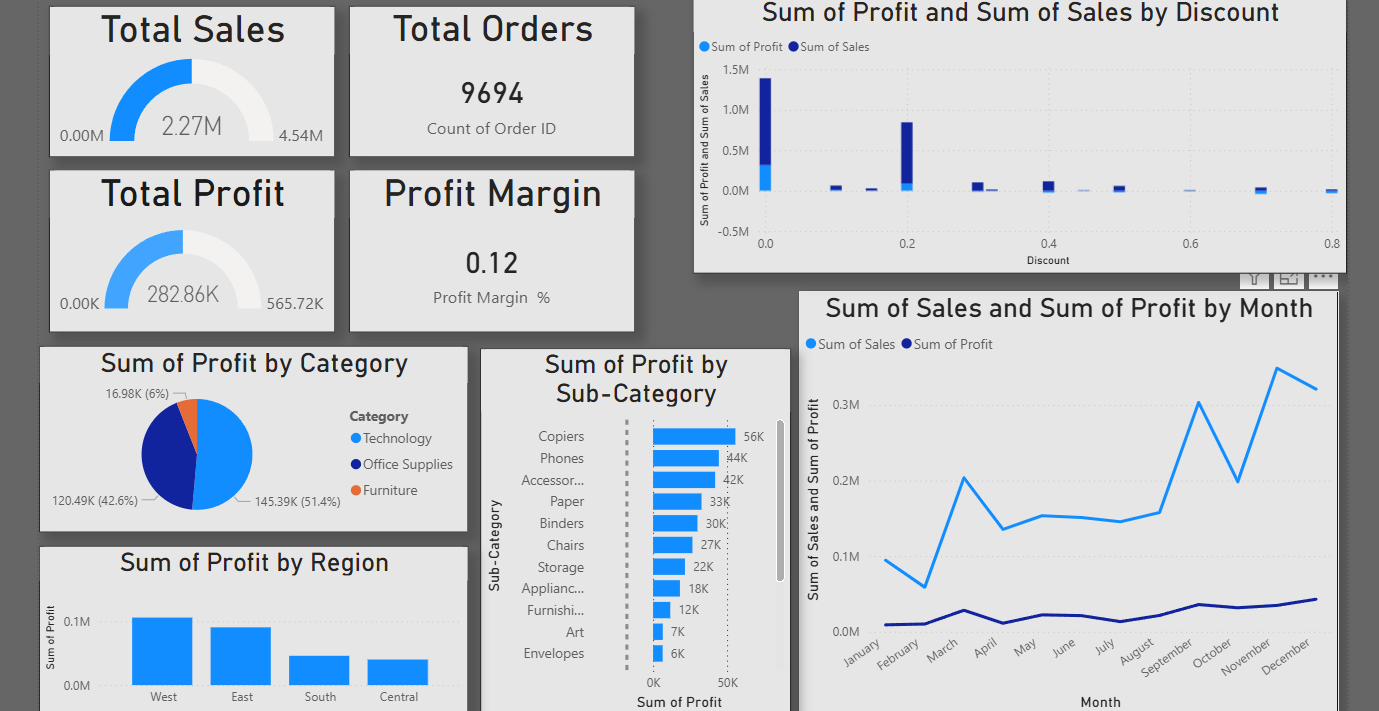

The page's visual inventory and layout, read from the dashboard file:
{"tool":"powerbi","page":{"name":"Page 1","canvas":[1280,720],"ordinal":0},"visuals":[{"type":"gauge","title":"Total Sales","fields":{"Y":["Sum(sample_store samplesuperstore_1.Sales)"]},"box":[9.8,24.5,280,148],"z":0},{"type":"gauge","title":"Total Profit","fields":{"Y":["Sum(sample_store samplesuperstore_1.Profit)"]},"box":[9.8,184.6,280,159],"z":1000},{"type":"card","title":"Total Orders","fields":{"Values":["CountNonNull(sample_store samplesuperstore_1.Order ID)"]},"box":[303.3,24.5,280,148],"z":2000},{"type":"card","title":"Profit Margin","fields":{"Values":["sample_store samplesuperstore_1.Profit Margin  %"]},"box":[303.3,184.6,280,159],"z":3000},{"type":"lineChart","fields":{"Category":["sample_store samplesuperstore_1.Order Date.Variation.Date Hierarchy.Month"],"Y":["Sum(sample_store samplesuperstore_1.Sales)","Sum(sample_store samplesuperstore_1.Profit)"]},"box":[743.8,303.8,527.5,416.2],"z":4000},{"type":"lineStackedColumnComboChart","fields":{"Category":["sample_store samplesuperstore_1.Discount"],"Y":["Sum(sample_store samplesuperstore_1.Profit)","Sum(sample_store samplesuperstore_1.Sales)"]},"box":[640,13.8,640,272.5],"z":5000},{"type":"pieChart","fields":{"Category":["sample_store samplesuperstore_1.Category"],"Y":["Sum(sample_store samplesuperstore_1.Profit)"]},"box":[0,357.5,420,182.5],"z":6000},{"type":"clusteredBarChart","fields":{"Category":["sample_store samplesuperstore_1.Sub-Category"],"Y":["Sum(sample_store samplesuperstore_1.Profit)"]},"box":[431.2,360,303.8,360],"z":7000},{"type":"lineClusteredColumnComboChart","fields":{"Category":["sample_store samplesuperstore_1.Region"],"Y":["Sum(sample_store samplesuperstore_1.Profit)"]},"box":[0,552.5,420,167.5],"z":8000}]}

Visuals, with their boxes in screenshot pixels (x1, y1, x2, y2):
"Total Sales" gauge: left=53, top=7, right=336, bottom=156
"Total Profit" gauge: left=53, top=168, right=336, bottom=329
"Total Orders" card: left=349, top=7, right=632, bottom=156
"Profit Margin" card: left=349, top=168, right=632, bottom=329
lineChart - sample_store samplesuperstore_1.Order Date.Variation.Date Hierarchy.Month x Sum(sample_store samplesuperstore_1.Sales): left=794, top=289, right=1327, bottom=709
lineStackedColumnComboChart - sample_store samplesuperstore_1.Discount x Sum(sample_store samplesuperstore_1.Profit): left=689, top=0, right=1336, bottom=271
pieChart - sample_store samplesuperstore_1.Category x Sum(sample_store samplesuperstore_1.Profit): left=43, top=343, right=467, bottom=527
clusteredBarChart - sample_store samplesuperstore_1.Sub-Category x Sum(sample_store samplesuperstore_1.Profit): left=478, top=346, right=785, bottom=709
lineClusteredColumnComboChart - sample_store samplesuperstore_1.Region x Sum(sample_store samplesuperstore_1.Profit): left=43, top=540, right=467, bottom=709
